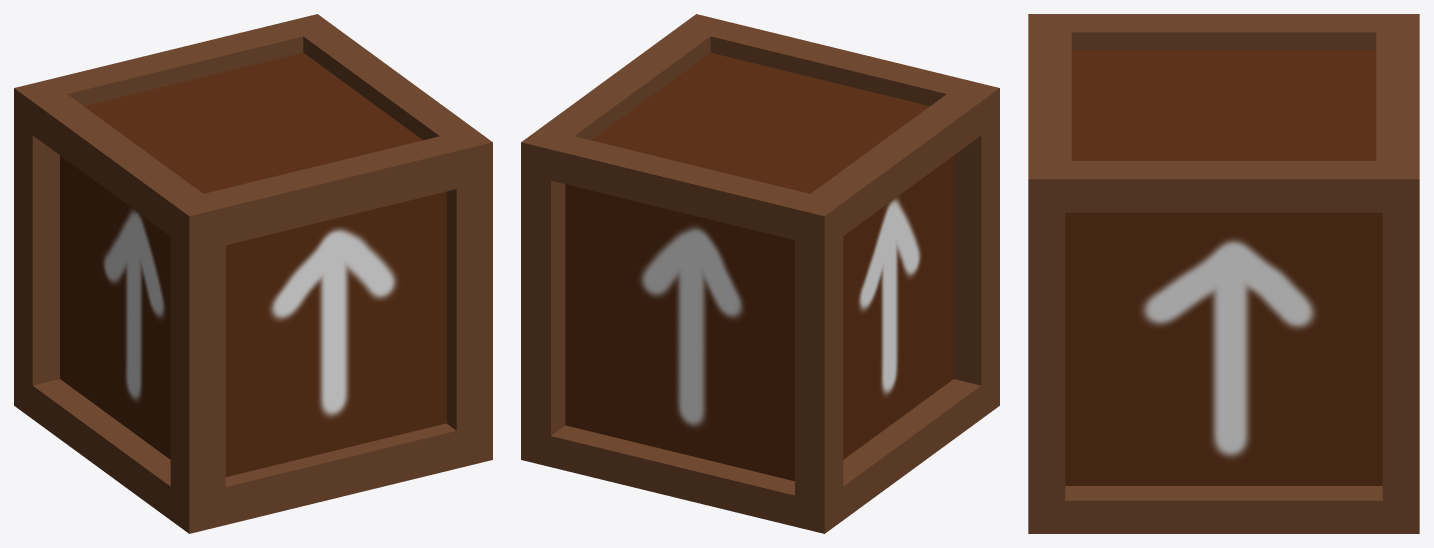
3 renders of one model, left to right at view 1: azimuth 30°, elevation 25°; view 2: azimuth 150°, elevation 25°; view 3: azimuth 270°, elevation 25°, orthographic. The views are drawn at different scales.
Parts seen in each view (by area): view 1: Куб; view 2: Куб; view 3: Куб.
Part boxes in pixels (<box>): Куб: <box>14,14,492,533</box>; Куб: <box>521,14,999,533</box>; Куб: <box>1028,14,1419,533</box>.
Size of the model in its own units: 200 by 200 by 200.
